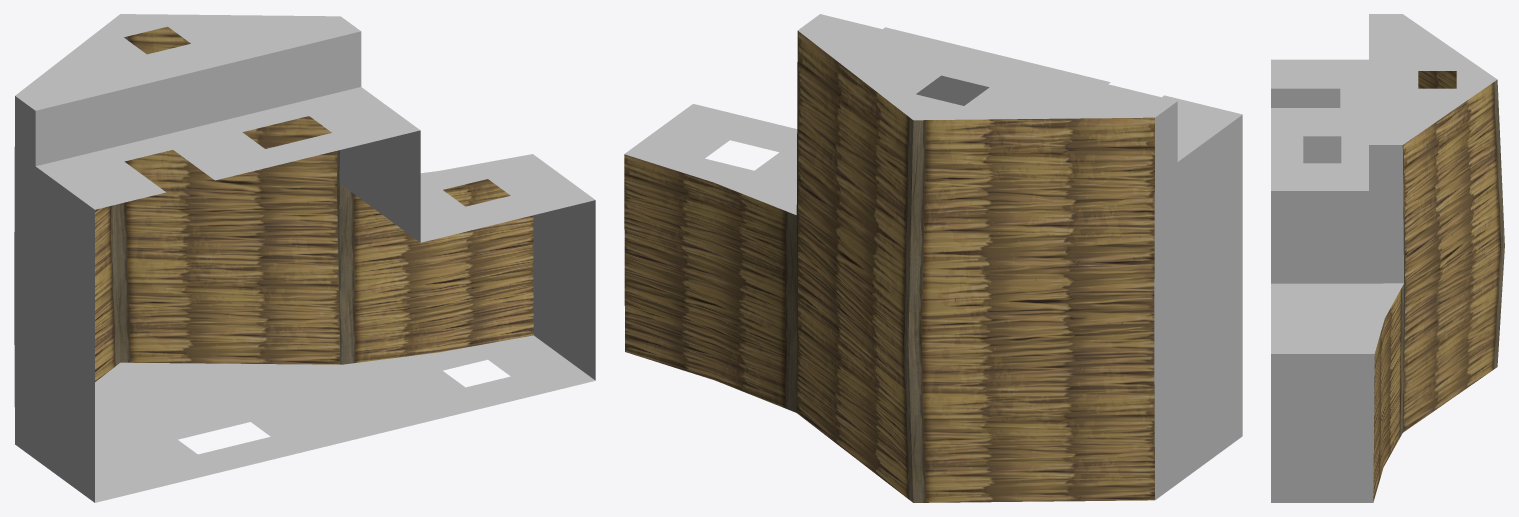
The model's file is Pirate_House_Interior_Type01_E.fbx.
3 views of the same model, side by side, from view 1: azimuth 30°, elevation 25°; view 2: azimuth 150°, elevation 25°; view 3: azimuth 270°, elevation 25° (orthographic). The views are drawn at different scales.
Parts seen in each view (by area): view 1: Pirate_House_Interior_Type01_E; view 2: Pirate_House_Interior_Type01_E; view 3: Pirate_House_Interior_Type01_E.
Part boxes in pixels (x1=…): Pirate_House_Interior_Type01_E: x1=14, y1=14, x2=595, y2=502; Pirate_House_Interior_Type01_E: x1=624, y1=14, x2=1242, y2=502; Pirate_House_Interior_Type01_E: x1=1271, y1=14, x2=1504, y2=502.
Bounding box in the file's own units: 14.43 × 9.6 × 7.08.
